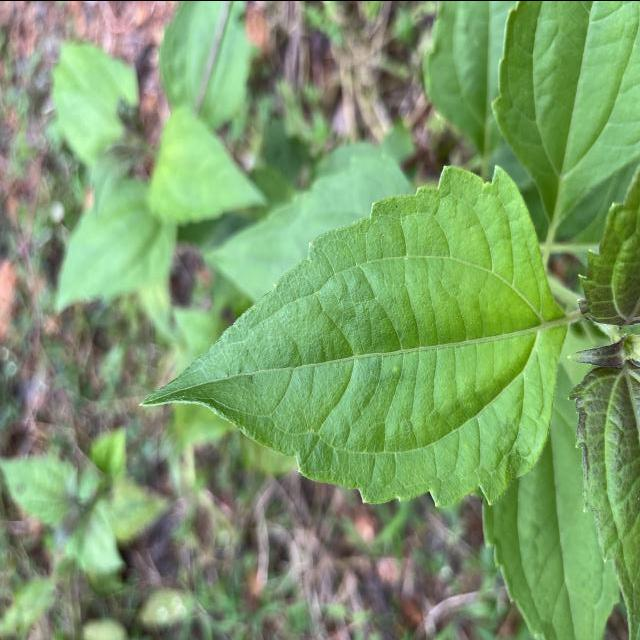Chromolaena odorata: (134, 156, 570, 511)
